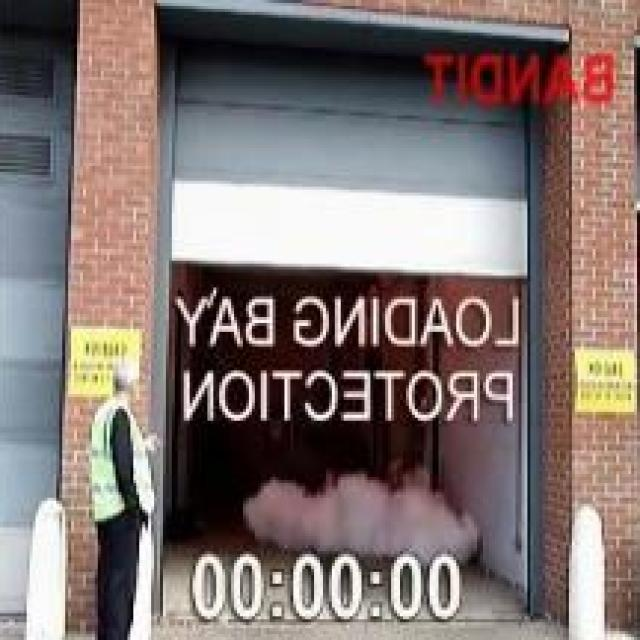fire: (238, 465, 488, 566)
